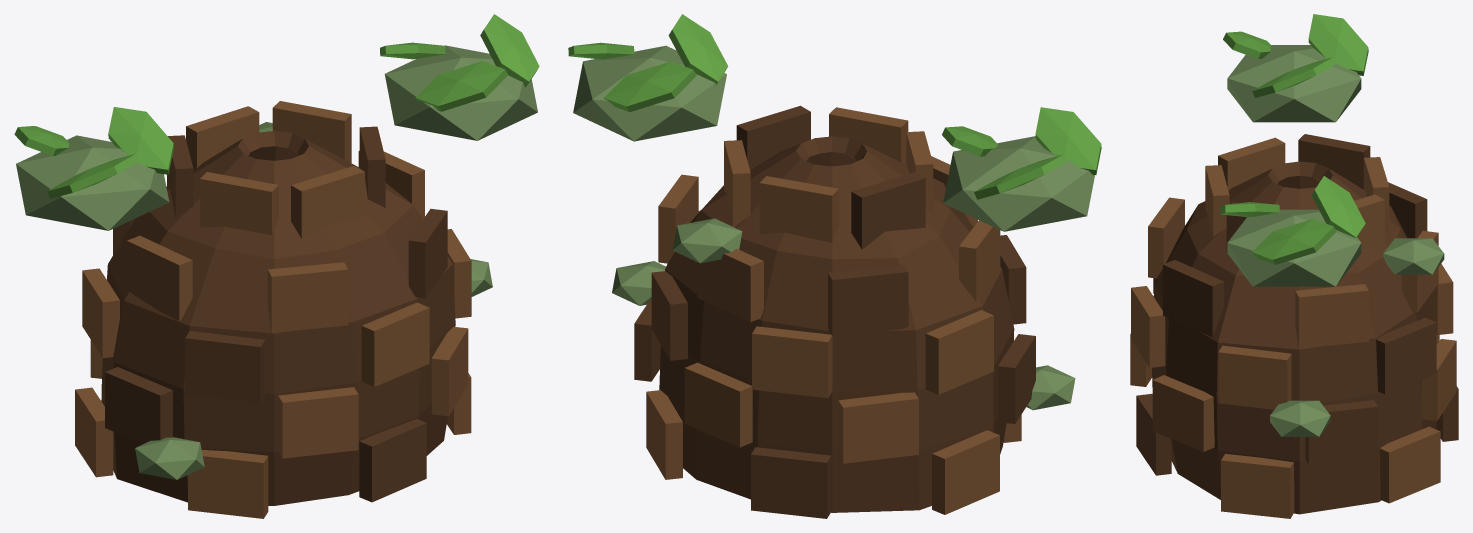
Rendered from gear_armor_bark_v01.glb.
3 renders of one model, left to right at view 1: azimuth 30°, elevation 25°; view 2: azimuth 150°, elevation 25°; view 3: azimuth 270°, elevation 25°, orthographic. The views are drawn at different scales.
Visible parts, largest first — view 1: armor_bark; view 2: armor_bark; view 3: armor_bark.
Boxes of the visible parts, <box> form: armor_bark: <box>14,14,539,518</box>; armor_bark: <box>568,14,1101,518</box>; armor_bark: <box>1130,14,1458,518</box>.
Size of the model in its own units: 0.5221 by 0.3497 by 0.321.
